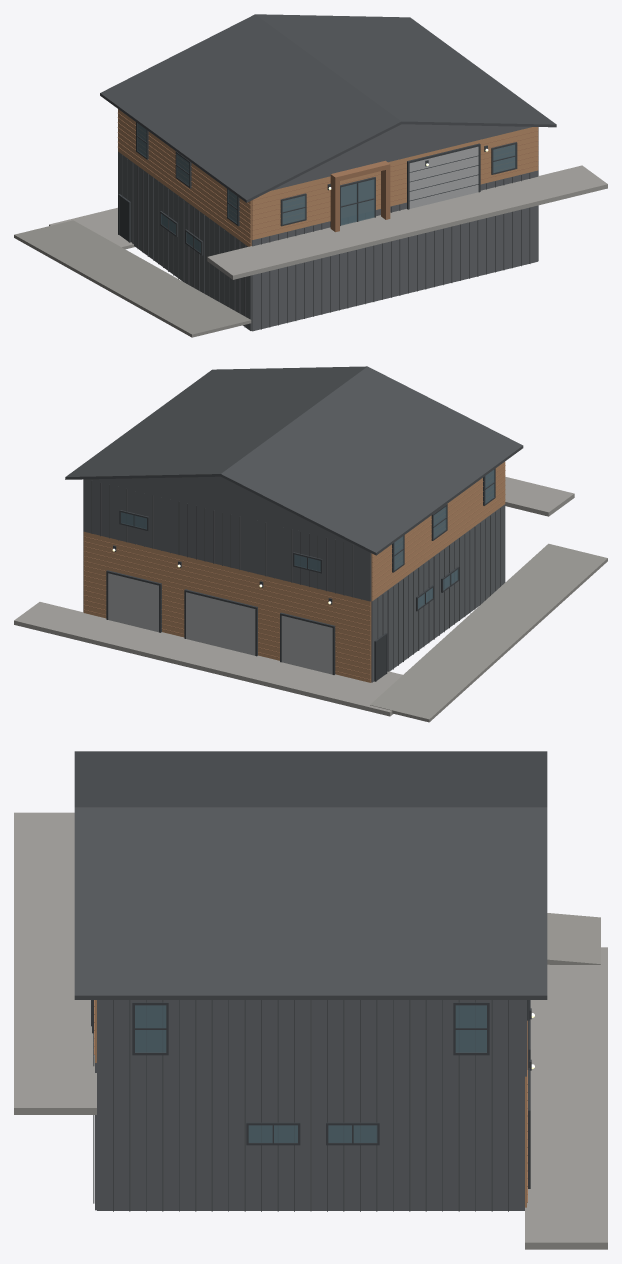
The model's file is Walid_Two_Tone_Standalone_Model_Oreov3.glb.
The picture shows the model from 3 angles, top to bottom: view 1: azimuth 30°, elevation 25°; view 2: azimuth 150°, elevation 25°; view 3: azimuth 270°, elevation 25°; orthographic projection. The views are drawn at different scales.
Parts seen in each view (by area): view 1: manor_shadow, manor_grey, terrain, burnt_sienna, driveway, burnt_sienna_joint, glazing, black_trim, doors; view 2: manor_shadow, manor_grey, burnt_sienna, driveway, terrain, doors, burnt_sienna_joint, black_trim, glazing; view 3: manor_shadow, manor_grey, terrain, glazing, black_trim, driveway.
Boxes of the visible parts, box(x1,y1,x2,y2) form: manor_shadow: box(100, 14, 556, 329); manor_grey: box(118, 124, 538, 331); terrain: box(49, 165, 607, 279); burnt_sienna: box(118, 109, 538, 246); driveway: box(14, 220, 251, 337); burnt_sienna_joint: box(117, 113, 538, 243); glazing: box(137, 123, 515, 252); black_trim: box(118, 122, 517, 255); doors: box(409, 146, 478, 208); manor_shadow: box(65, 366, 523, 671); manor_grey: box(83, 476, 505, 682); burnt_sienna: box(83, 461, 505, 682); driveway: box(370, 543, 607, 722); terrain: box(14, 476, 574, 716); doors: box(108, 573, 332, 674); burnt_sienna_joint: box(83, 465, 505, 679); black_trim: box(106, 468, 495, 681); glazing: box(121, 469, 494, 608); manor_shadow: box(74, 751, 547, 1211); manor_grey: box(95, 1000, 526, 1210); terrain: box(14, 812, 607, 1249); glazing: box(135, 1005, 486, 1142); black_trim: box(91, 1000, 531, 1188); driveway: box(547, 913, 600, 964).
Bounding box in the file's own units: 22.22 × 9.4 × 17.18.
